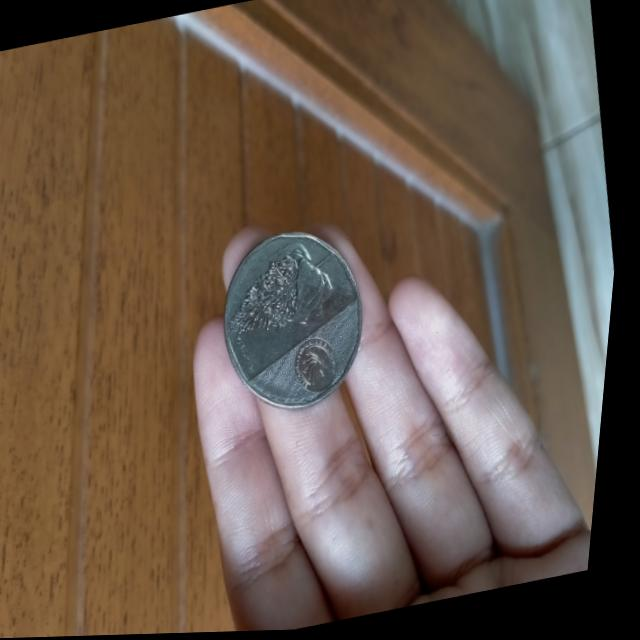10_New_Back: (212, 232, 368, 353)
